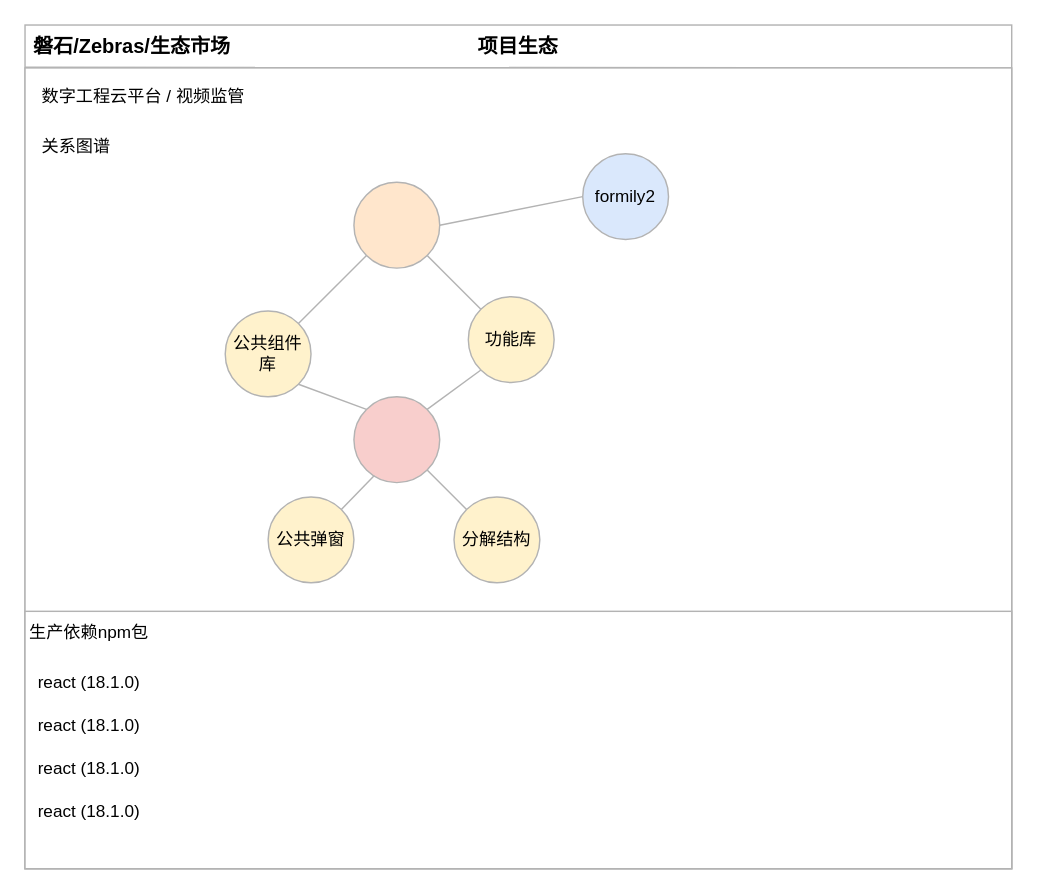
This 1038x894 diagram has some shape labels left out. The box of each missing label's shape, as (x1, y1, x2, y2) in pixels:
cform-comp: (352, 181, 440, 268)
视频监管: (352, 395, 440, 483)
